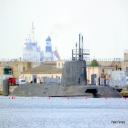submarine: (11, 59, 126, 100)
